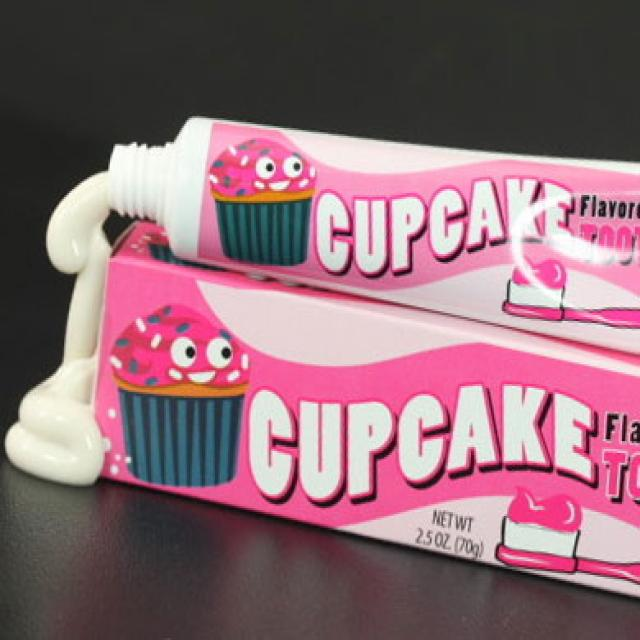toothpaste: (89, 73, 640, 357)
